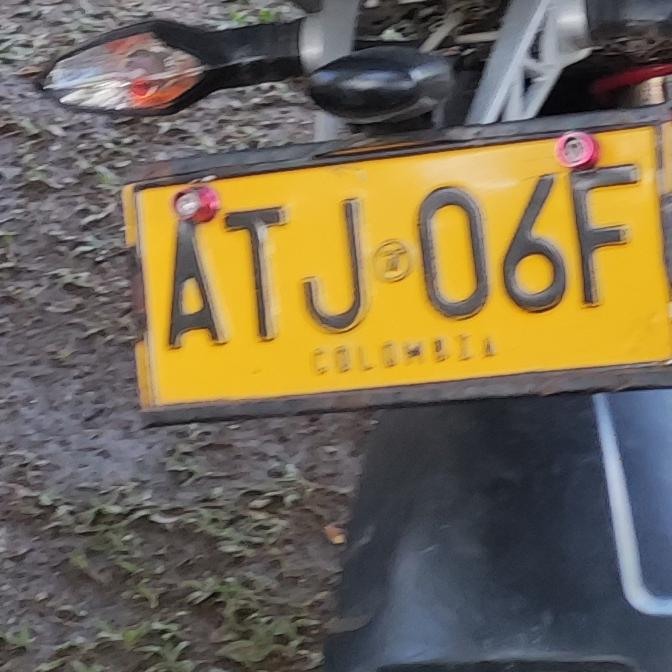plates: (115, 113, 672, 438)
